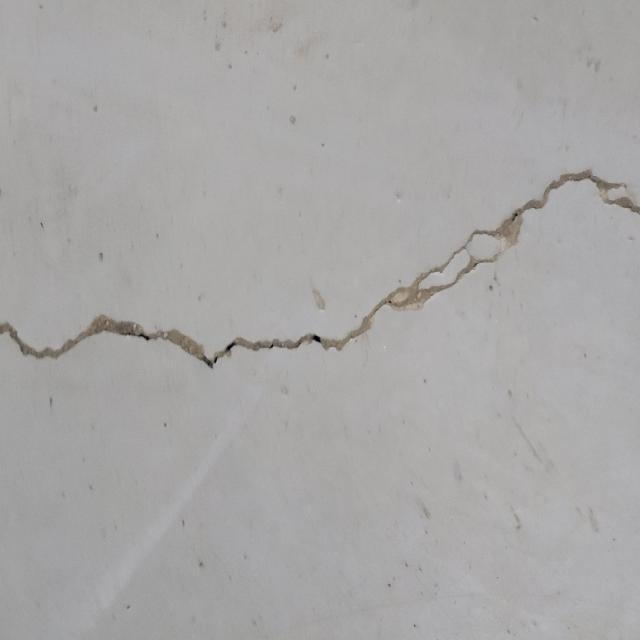SurfaceCrack: (1, 137, 640, 394)
